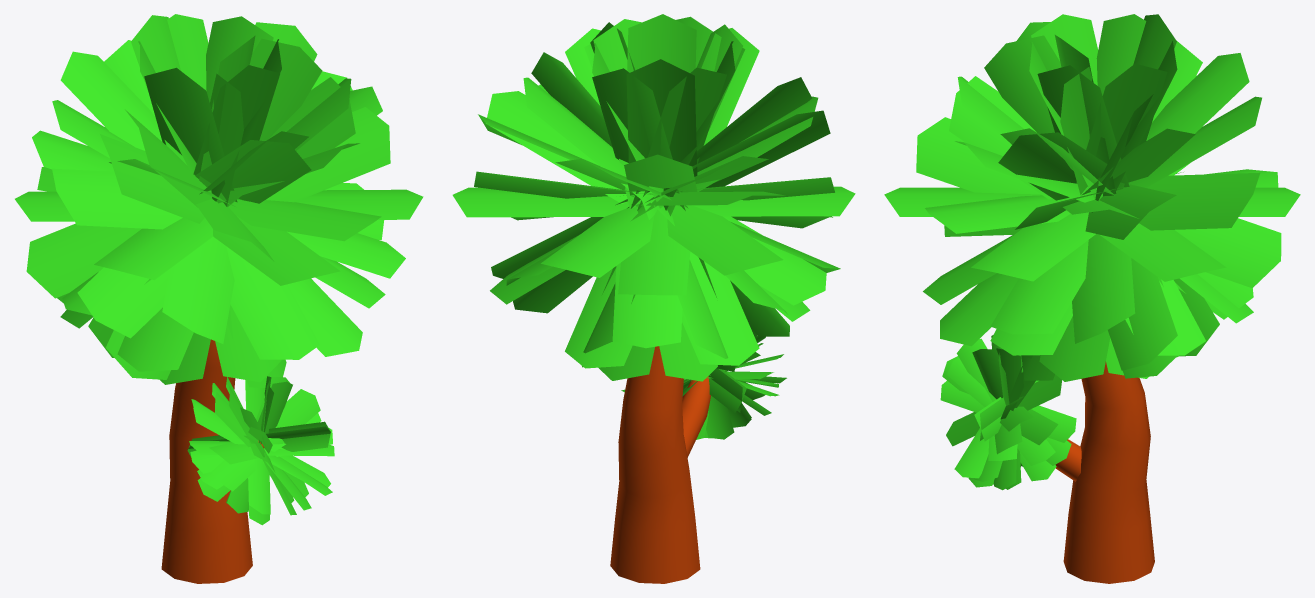
Rendered from prop_opalm.FBX.
The picture shows the model from 3 angles, left to right: view 1: azimuth 30°, elevation 25°; view 2: azimuth 150°, elevation 25°; view 3: azimuth 270°, elevation 25°; orthographic projection.
Parts seen in each view (by area): view 1: prop_opalm; view 2: prop_opalm; view 3: prop_opalm.
Boxes of the visible parts, box(x1,y1,x2,y2) form: prop_opalm: box(15, 14, 423, 583); prop_opalm: box(452, 14, 855, 583); prop_opalm: box(884, 14, 1300, 583).
Bounding box in the file's own units: 1.04 × 1.59 × 1.12.
